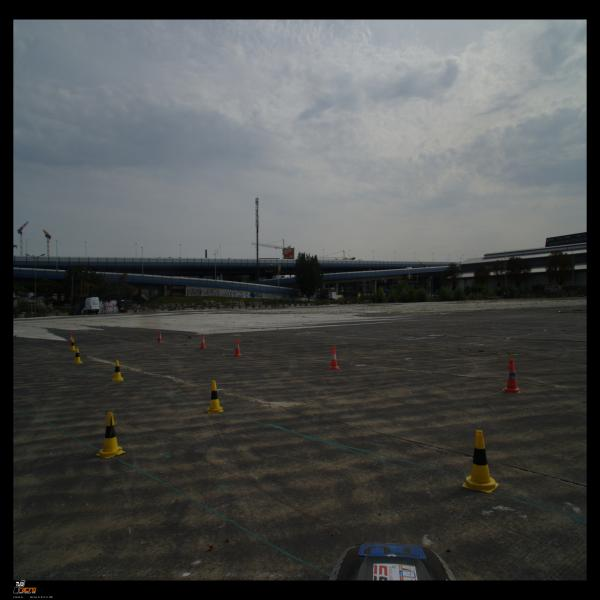orange_cone: (502, 359, 522, 393), (328, 346, 340, 370), (232, 339, 242, 356), (199, 334, 207, 349), (156, 331, 164, 343), (67, 333, 73, 345)
yellow_cone: (462, 430, 499, 493), (96, 412, 125, 458), (206, 380, 224, 413), (112, 360, 124, 382), (72, 348, 83, 364), (69, 339, 76, 351)
